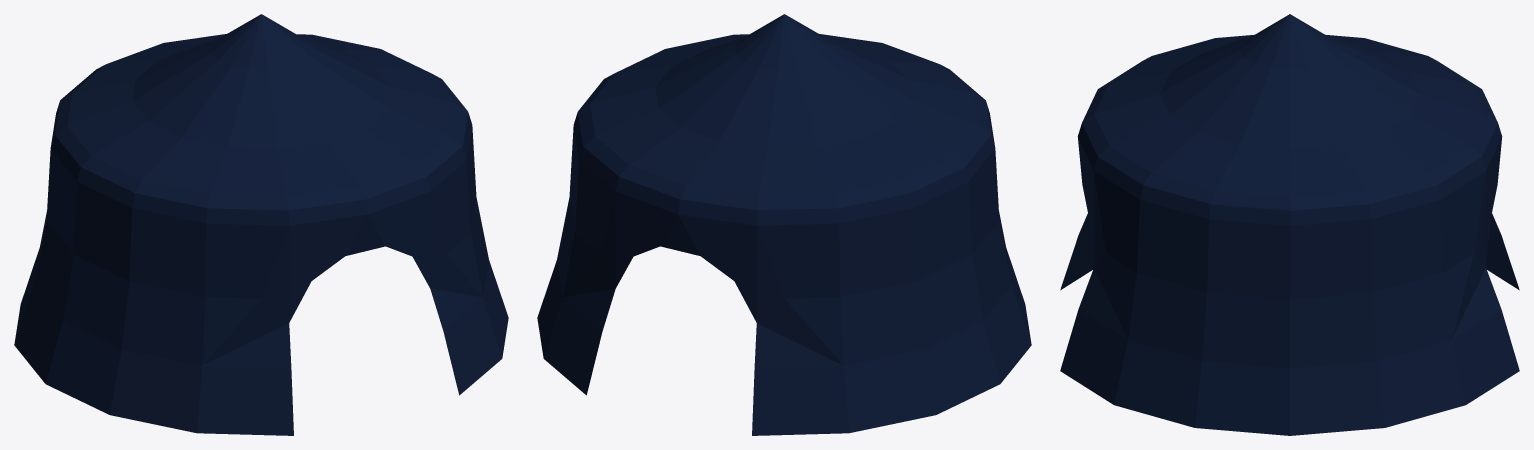
File: CircusTent_2.fbx
3 views of the same model, side by side, from view 1: azimuth 30°, elevation 25°; view 2: azimuth 150°, elevation 25°; view 3: azimuth 270°, elevation 25° (orthographic).
Parts seen in each view (by area): view 1: CircusTent002; view 2: CircusTent002; view 3: CircusTent002.
Part boxes in pixels (<box>): CircusTent002: <box>14,14,508,435</box>; CircusTent002: <box>537,14,1031,435</box>; CircusTent002: <box>1060,14,1519,435</box>.
Size of the model in its own units: 5368 by 3772 by 4960.
